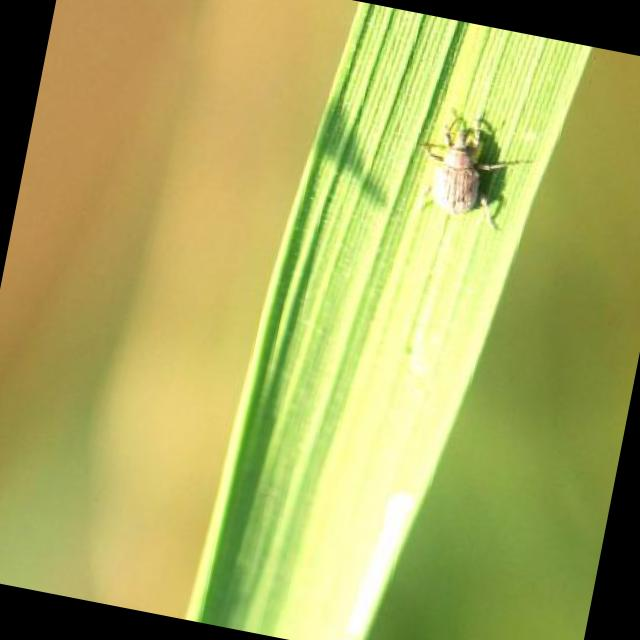rice-bug: (407, 106, 534, 235)
